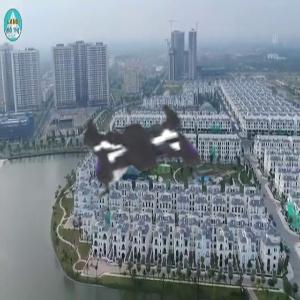drone: (3, 17, 286, 300)
